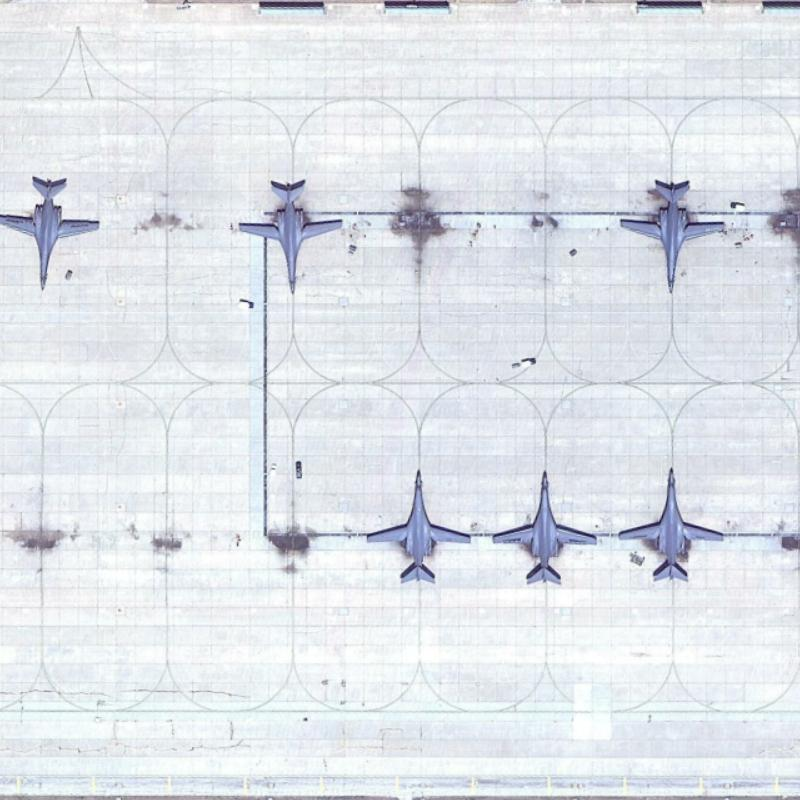A10: (227, 168, 370, 301), (356, 454, 479, 591), (610, 169, 739, 298), (611, 456, 729, 588), (0, 165, 115, 299), (489, 461, 594, 595)
